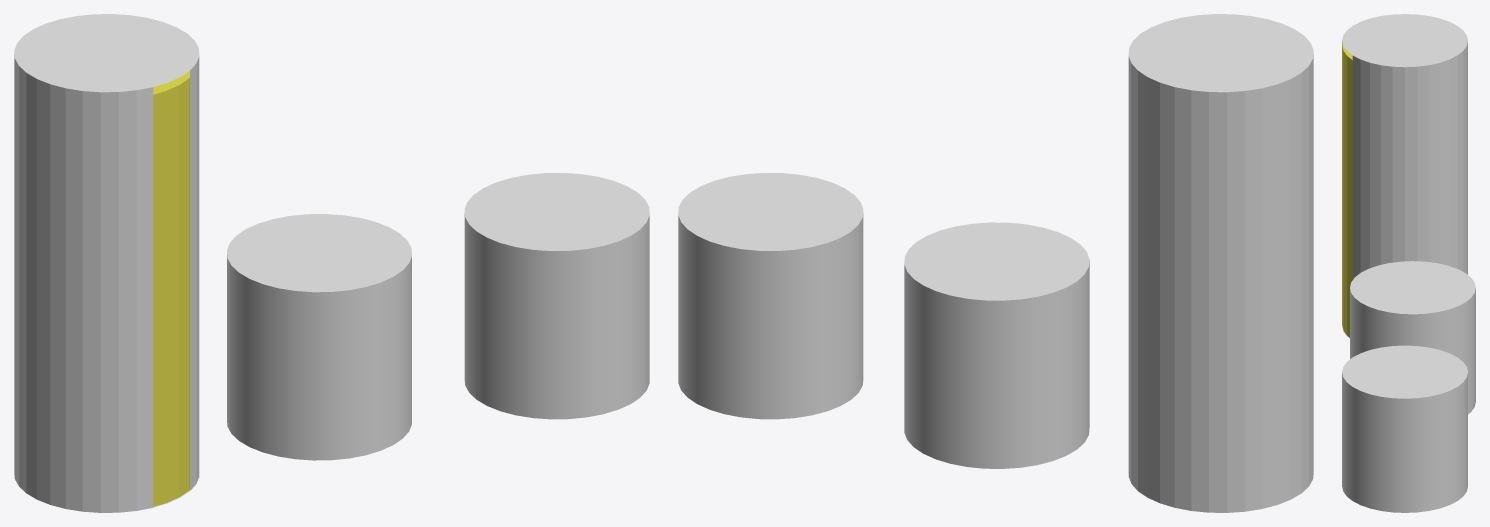
Rendered from hinh-tru-8.glb.
3 views of the same model, side by side, from view 1: azimuth 30°, elevation 25°; view 2: azimuth 150°, elevation 25°; view 3: azimuth 270°, elevation 25° (orthographic). The views are drawn at different scales.
Parts seen in each view (by area): view 1: hinhtru.001, hinhtru.003, hinhtru.002, muc1; view 2: hinhtru.001, hinhtru.002, hinhtru.003; view 3: hinhtru.001, hinhtru.003, hinhtru.002, muc1.
Part boxes in pixels (<box>): hinhtru.001: <box>14,14,199,512</box>; hinhtru.003: <box>464,173,649,419</box>; hinhtru.002: <box>227,214,411,460</box>; muc1: <box>153,71,189,506</box>; hinhtru.001: <box>1128,14,1313,512</box>; hinhtru.002: <box>904,222,1089,468</box>; hinhtru.003: <box>678,173,863,419</box>; hinhtru.001: <box>1342,14,1467,338</box>; hinhtru.003: <box>1342,345,1467,512</box>; hinhtru.002: <box>1350,261,1475,414</box>; muc1: <box>1342,44,1352,337</box>.
Size of what is drawn, in the model's own units: 7.6 by 5.19 by 2.12.
